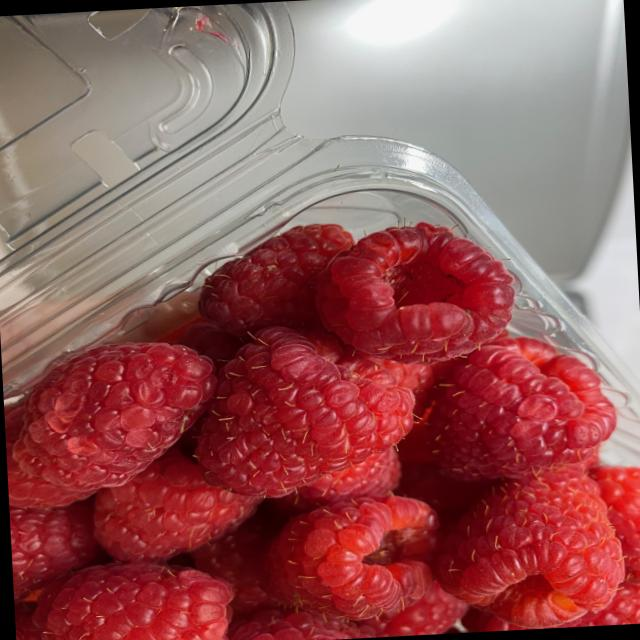raspberries: (21, 215, 640, 640)
